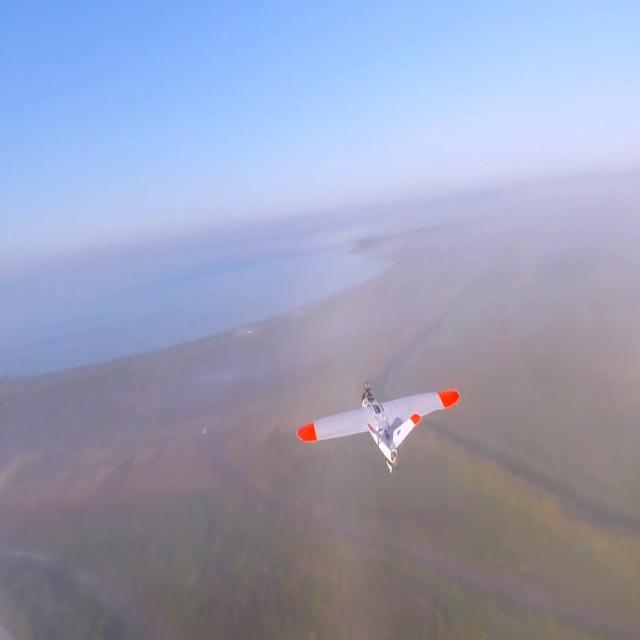iha: (297, 419, 462, 436)
